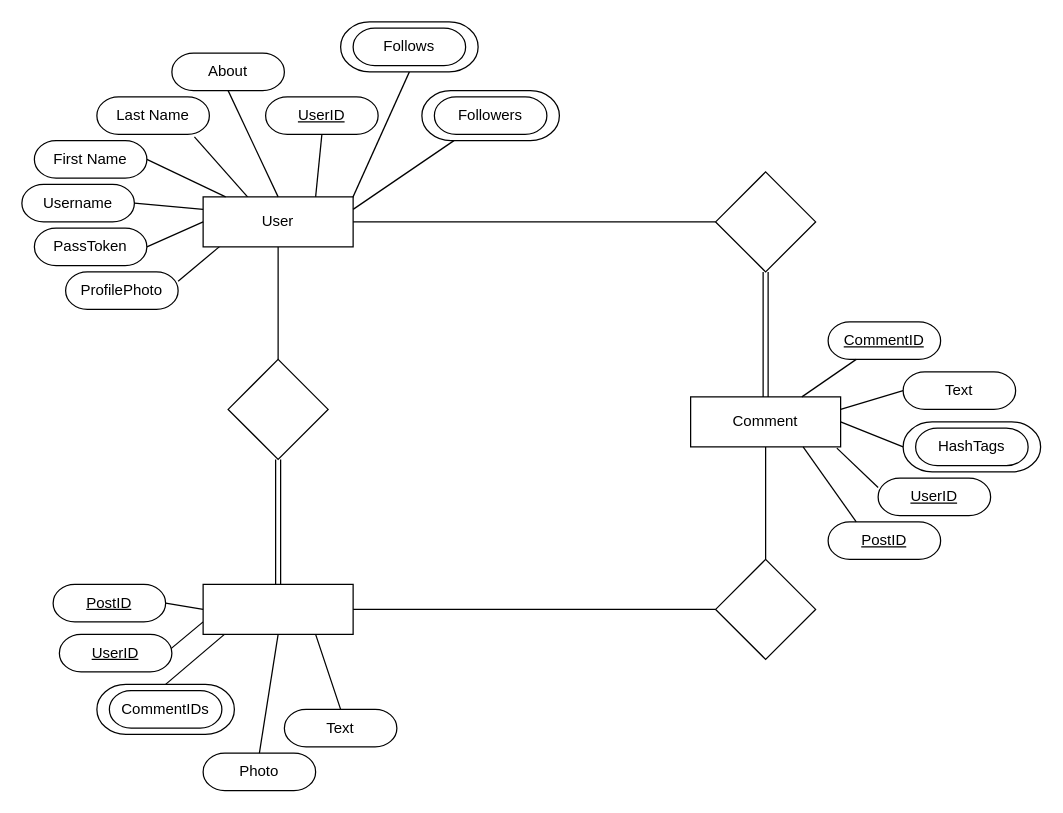
The diagram is 1063 pixels wide and 813 high, and some of its shapes have lost their labels. Each missing label, with the centre of its shape:
Adds: the point at 765,221
Contains: the point at 765,608
Creates: the point at 277,408
Post: the point at 277,608
